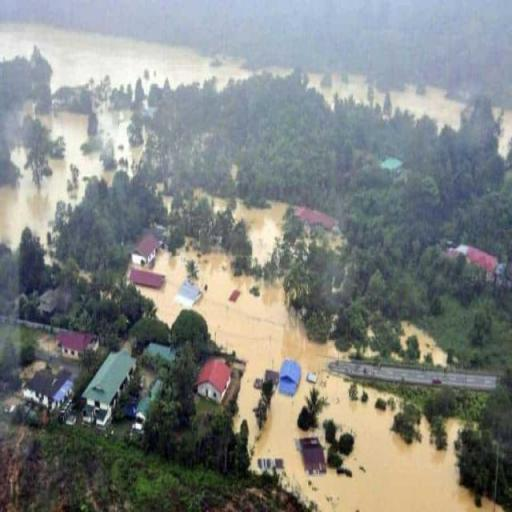flood: (197, 255, 479, 512), (0, 22, 250, 91), (0, 112, 112, 248), (136, 249, 207, 324), (234, 202, 289, 264), (99, 111, 143, 165), (397, 88, 461, 124), (309, 72, 368, 103), (499, 109, 512, 156)
house: (79, 348, 135, 433), (197, 354, 239, 409), (22, 372, 74, 410), (57, 328, 99, 364), (297, 436, 328, 476), (129, 262, 166, 294), (277, 357, 302, 400), (134, 234, 158, 264)
